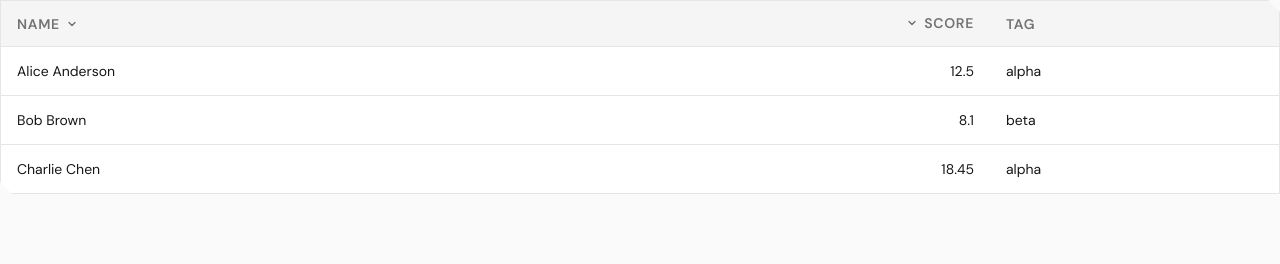
Test case: DataTable › expands a row inline when renderExpanded is provided and the row is clicked
The image size is (1280, 264).
Note: Click row Bob
Click the button "Bob Brown 8.1 beta" at (52, 120), box [1,96,1279,144]
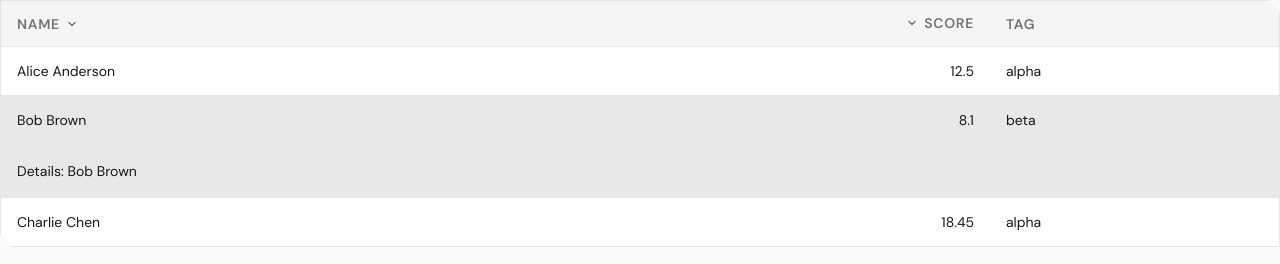
Expected: the text "Details: Bob Brown" is shown, [17,162,137,180]
Note: Click again to close
Click the button "Bob Brown 8.1 beta" at (52, 120), box [1,96,1279,144]
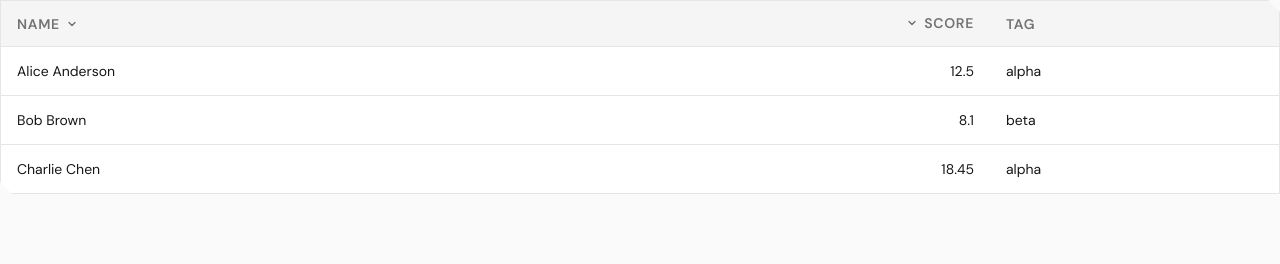
Expected: the text with test id "detail-2" is gone
